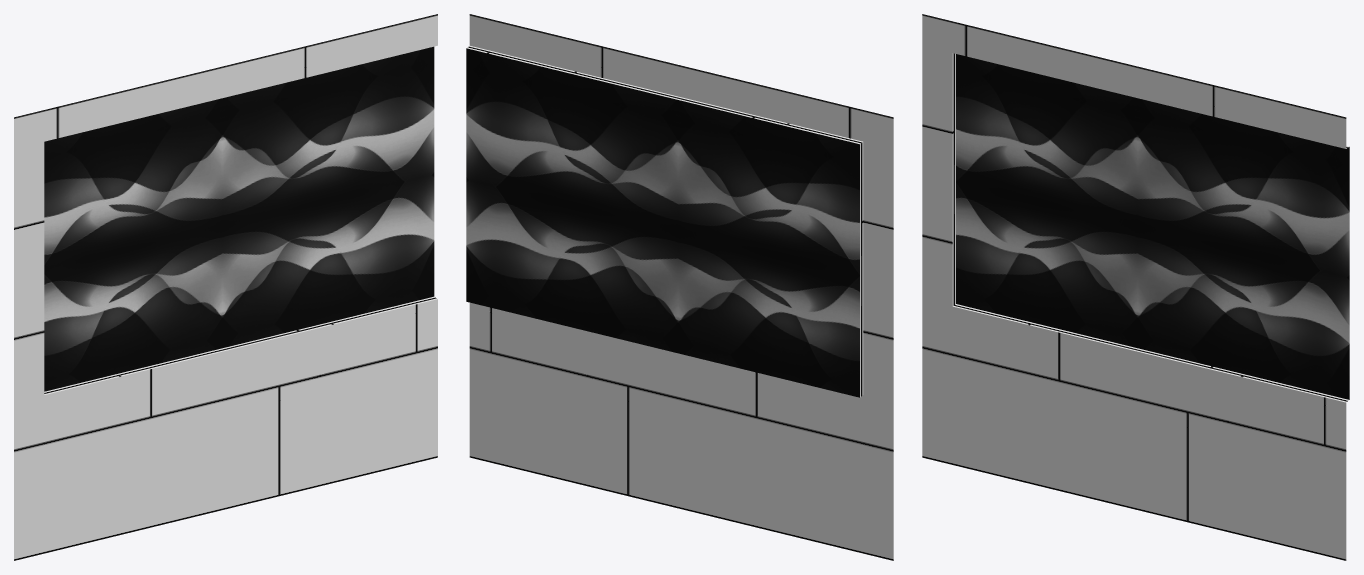
Rendered from WallNiche01_3_350x350cm.FBX.
3 renders of one model, left to right at view 1: azimuth 30°, elevation 25°; view 2: azimuth 150°, elevation 25°; view 3: azimuth 330°, elevation 25°, orthographic.
Parts seen in each view (by area): view 1: WallNiche01_3_350x350cm; view 2: WallNiche01_3_350x350cm; view 3: WallNiche01_3_350x350cm.
Boxes of the visible parts, x1=… form: WallNiche01_3_350x350cm: x1=14, y1=14, x2=437, y2=560; WallNiche01_3_350x350cm: x1=466, y1=14, x2=893, y2=560; WallNiche01_3_350x350cm: x1=922, y1=14, x2=1349, y2=560.
Bounding box in the file's own units: 350 × 350 × 5.
